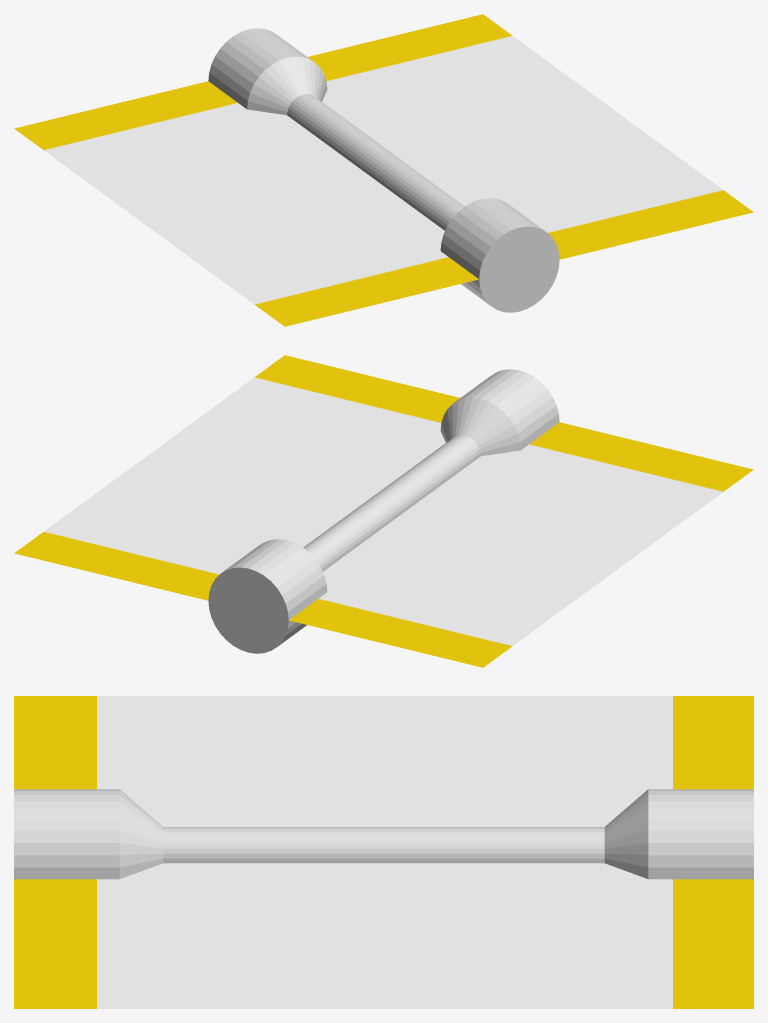
The model's file is convoyer.glb.
The picture shows the model from 3 angles, top to bottom: view 1: azimuth 30°, elevation 25°; view 2: azimuth 150°, elevation 25°; view 3: azimuth 270°, elevation 25°; orthographic projection. The views are drawn at different scales.
Visible parts, largest first — view 1: segment, Roller; view 2: segment, Roller; view 3: segment, Roller.
Boxes of the visible parts, <box> form: segment: <box>14,14,753,326</box>; Roller: <box>208,28,559,312</box>; segment: <box>14,355,753,667</box>; Roller: <box>208,369,559,653</box>; segment: <box>14,696,753,1008</box>; Roller: <box>14,789,753,879</box>.
Bounding box in the file's own units: 1 × 0.1713 × 1.
